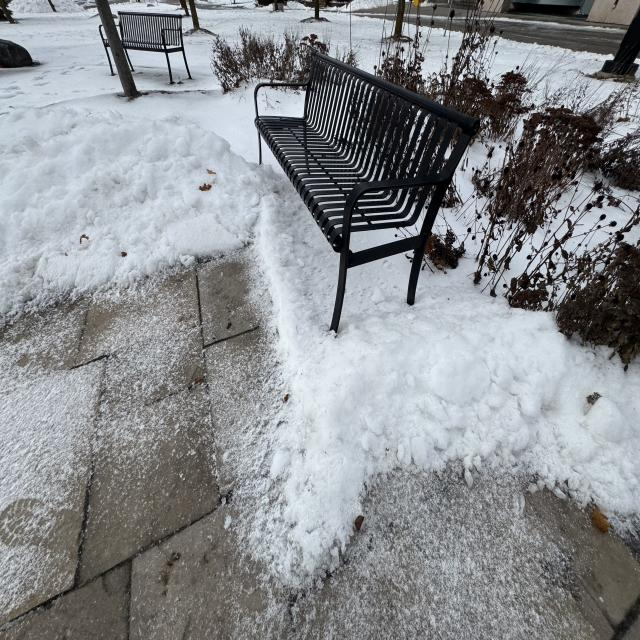Bench: (259, 37, 452, 330), (97, 7, 195, 85)
